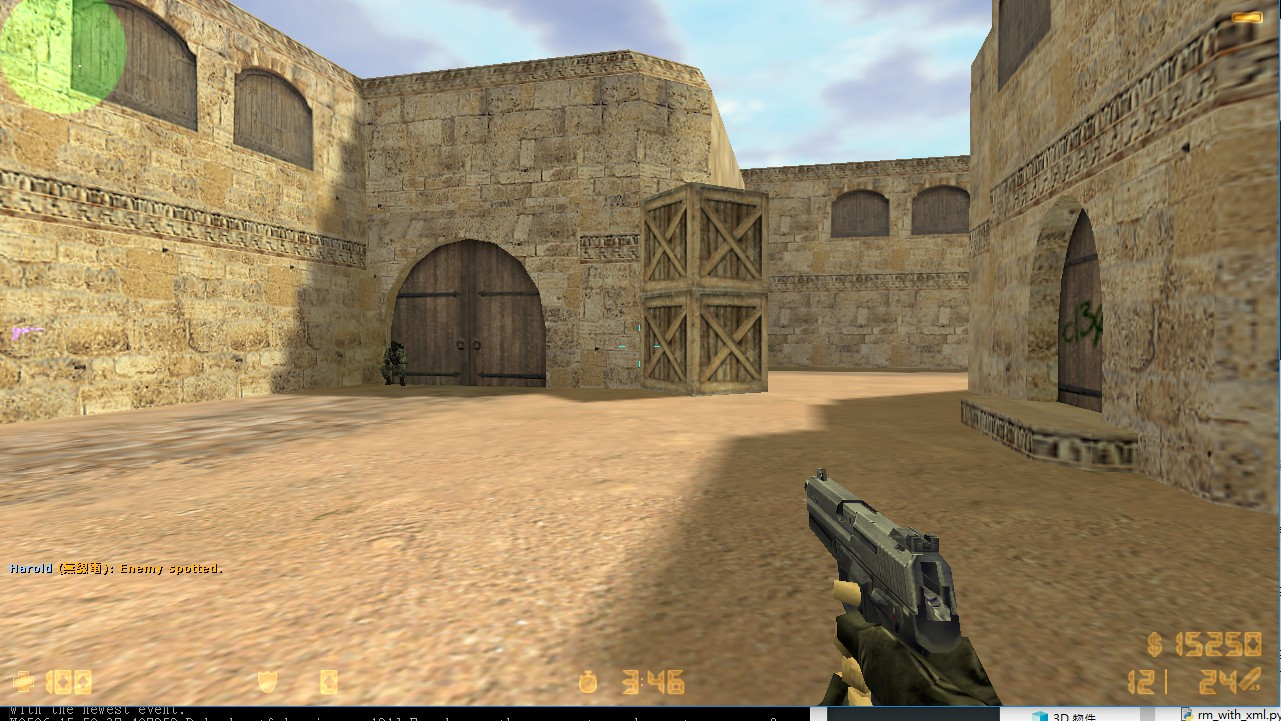person: (374, 337, 408, 392)
